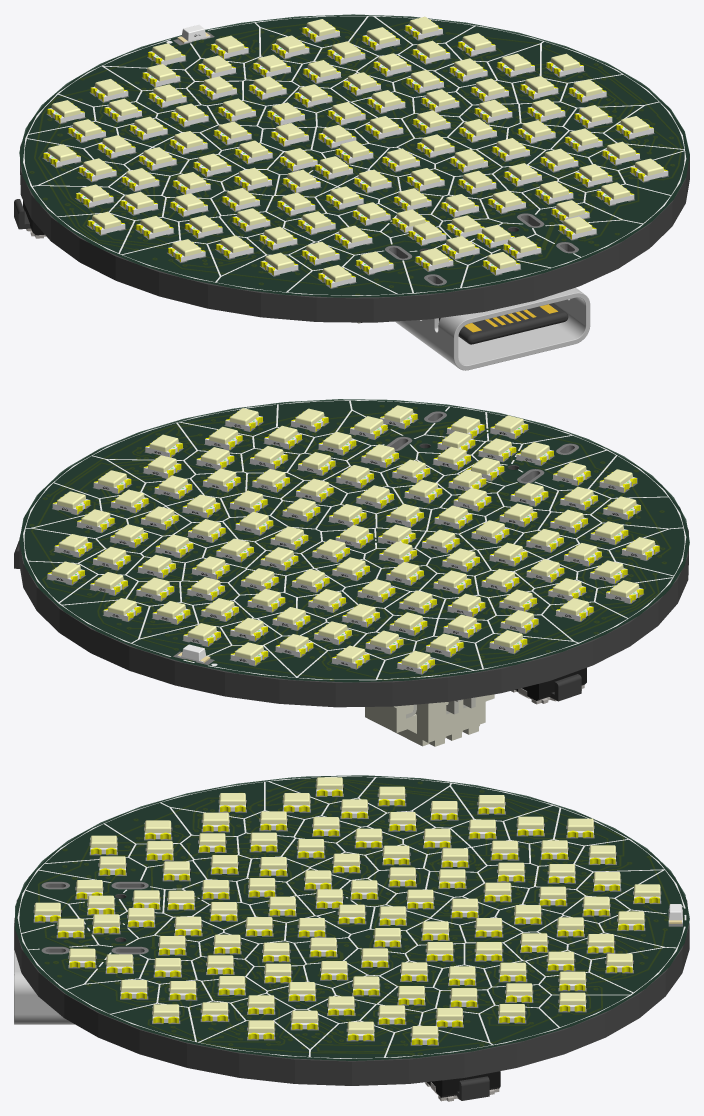
Rendered from board.glb.
The picture shows the model from 3 angles, top to bottom: view 1: azimuth 30°, elevation 25°; view 2: azimuth 150°, elevation 25°; view 3: azimuth 270°, elevation 25°; orthographic projection.
Visible parts, largest first — view 1: sunflower_soldermask, sunflower_PCB, LED-ARRAY-SMD_4P-L1.6-W1.5-BR_XL-1615RGBC-RF (×108), sunflower_silkscreen, USB-C-SMD_TYPE-C-31-M-12, sunflower_copper, sunflower_pad, SW-SMD_EVQP7C01P-L3.6-W3.5-H1.4-P3.6-LS4.7; view 2: sunflower_soldermask, sunflower_PCB, LED-ARRAY-SMD_4P-L1.6-W1.5-BR_XL-1615RGBC-RF (×107), sunflower_silkscreen, sunflower_copper, sunflower_pad, Molex_PicoBlade_53261-0271_1x02-1MP_P1.25mm_Horizontal, SW-SMD_EVQP7C01P-L3.6-W3.5-H1.4-P3.6-LS4.7; view 3: sunflower_soldermask, sunflower_PCB, LED-ARRAY-SMD_4P-L1.6-W1.5-BR_XL-1615RGBC-RF (×108), sunflower_silkscreen, sunflower_copper, sunflower_pad, USB-C-SMD_TYPE-C-31-M-12, SW-SMD_EVQP7C01P-L3.6-W3.5-H1.4-P3.6-LS4.7.
Part boxes in pixels (x1=…): sunflower_soldermask: x1=19, y1=14, x2=689, y2=297; sunflower_PCB: x1=20, y1=16, x2=689, y2=322; LED-ARRAY-SMD_4P-L1.6-W1.5-BR_XL-1615RGBC-RF (×108): x1=43, y1=16, x2=668, y2=287; sunflower_silkscreen: x1=23, y1=15, x2=686, y2=295; USB-C-SMD_TYPE-C-31-M-12: x1=395, y1=287, x2=590, y2=370; sunflower_copper: x1=30, y1=22, x2=681, y2=294; sunflower_pad: x1=42, y1=30, x2=668, y2=288; SW-SMD_EVQP7C01P-L3.6-W3.5-H1.4-P3.6-LS4.7: x1=14, y1=199, x2=46, y2=238; sunflower_soldermask: x1=19, y1=399, x2=689, y2=682; sunflower_PCB: x1=19, y1=401, x2=688, y2=707; LED-ARRAY-SMD_4P-L1.6-W1.5-BR_XL-1615RGBC-RF (×107): x1=47, y1=405, x2=659, y2=673; sunflower_silkscreen: x1=23, y1=400, x2=686, y2=680; sunflower_copper: x1=30, y1=405, x2=670, y2=680; sunflower_pad: x1=46, y1=411, x2=660, y2=674; Molex_PicoBlade_53261-0271_1x02-1MP_P1.25mm_Horizontal: x1=365, y1=694, x2=494, y2=746; SW-SMD_EVQP7C01P-L3.6-W3.5-H1.4-P3.6-LS4.7: x1=511, y1=667, x2=586, y2=704; sunflower_soldermask: x1=15, y1=775, x2=689, y2=1060; sunflower_PCB: x1=14, y1=777, x2=689, y2=1085; LED-ARRAY-SMD_4P-L1.6-W1.5-BR_XL-1615RGBC-RF (×108): x1=34, y1=777, x2=660, y2=1044; sunflower_silkscreen: x1=17, y1=776, x2=686, y2=1058; sunflower_copper: x1=38, y1=780, x2=683, y2=1054; sunflower_pad: x1=33, y1=784, x2=682, y2=1045; USB-C-SMD_TYPE-C-31-M-12: x1=14, y1=917, x2=74, y2=1024; SW-SMD_EVQP7C01P-L3.6-W3.5-H1.4-P3.6-LS4.7: x1=425, y1=1071, x2=500, y2=1101.
Size of the model in its own units: 0.038 by 0.00568 by 0.038.
